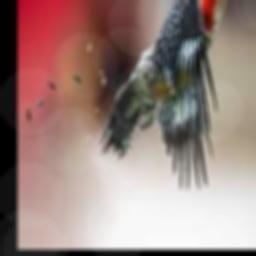Woodpecker: (101, 0, 239, 190)
